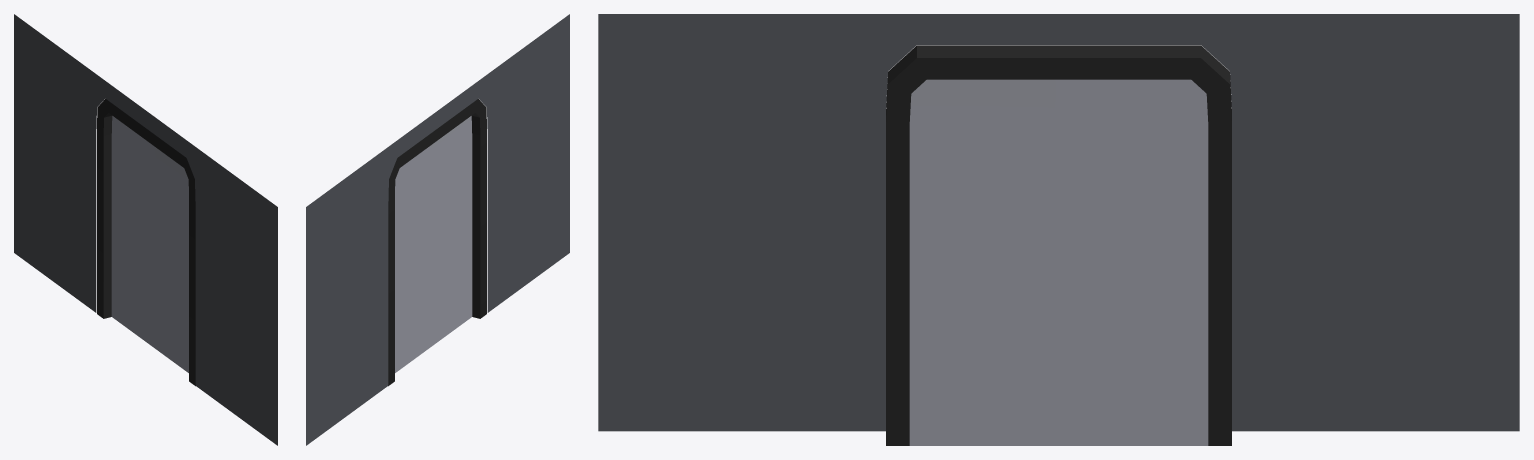
The model's file is Door.fbx.
3 views of the same model, side by side, from view 1: azimuth 30°, elevation 25°; view 2: azimuth 150°, elevation 25°; view 3: azimuth 270°, elevation 25° (orthographic). The views are drawn at different scales.
Parts seen in each view (by area): view 1: Door2; view 2: Door2; view 3: Door2.
Part boxes in pixels (x1=…): Door2: x1=14, y1=14, x2=277, y2=445; Door2: x1=306, y1=14, x2=569, y2=445; Door2: x1=598, y1=14, x2=1519, y2=445.
Size of the model in its own units: 0.067 by 1 by 2.
Materials: 1 (1 with a texture image).
